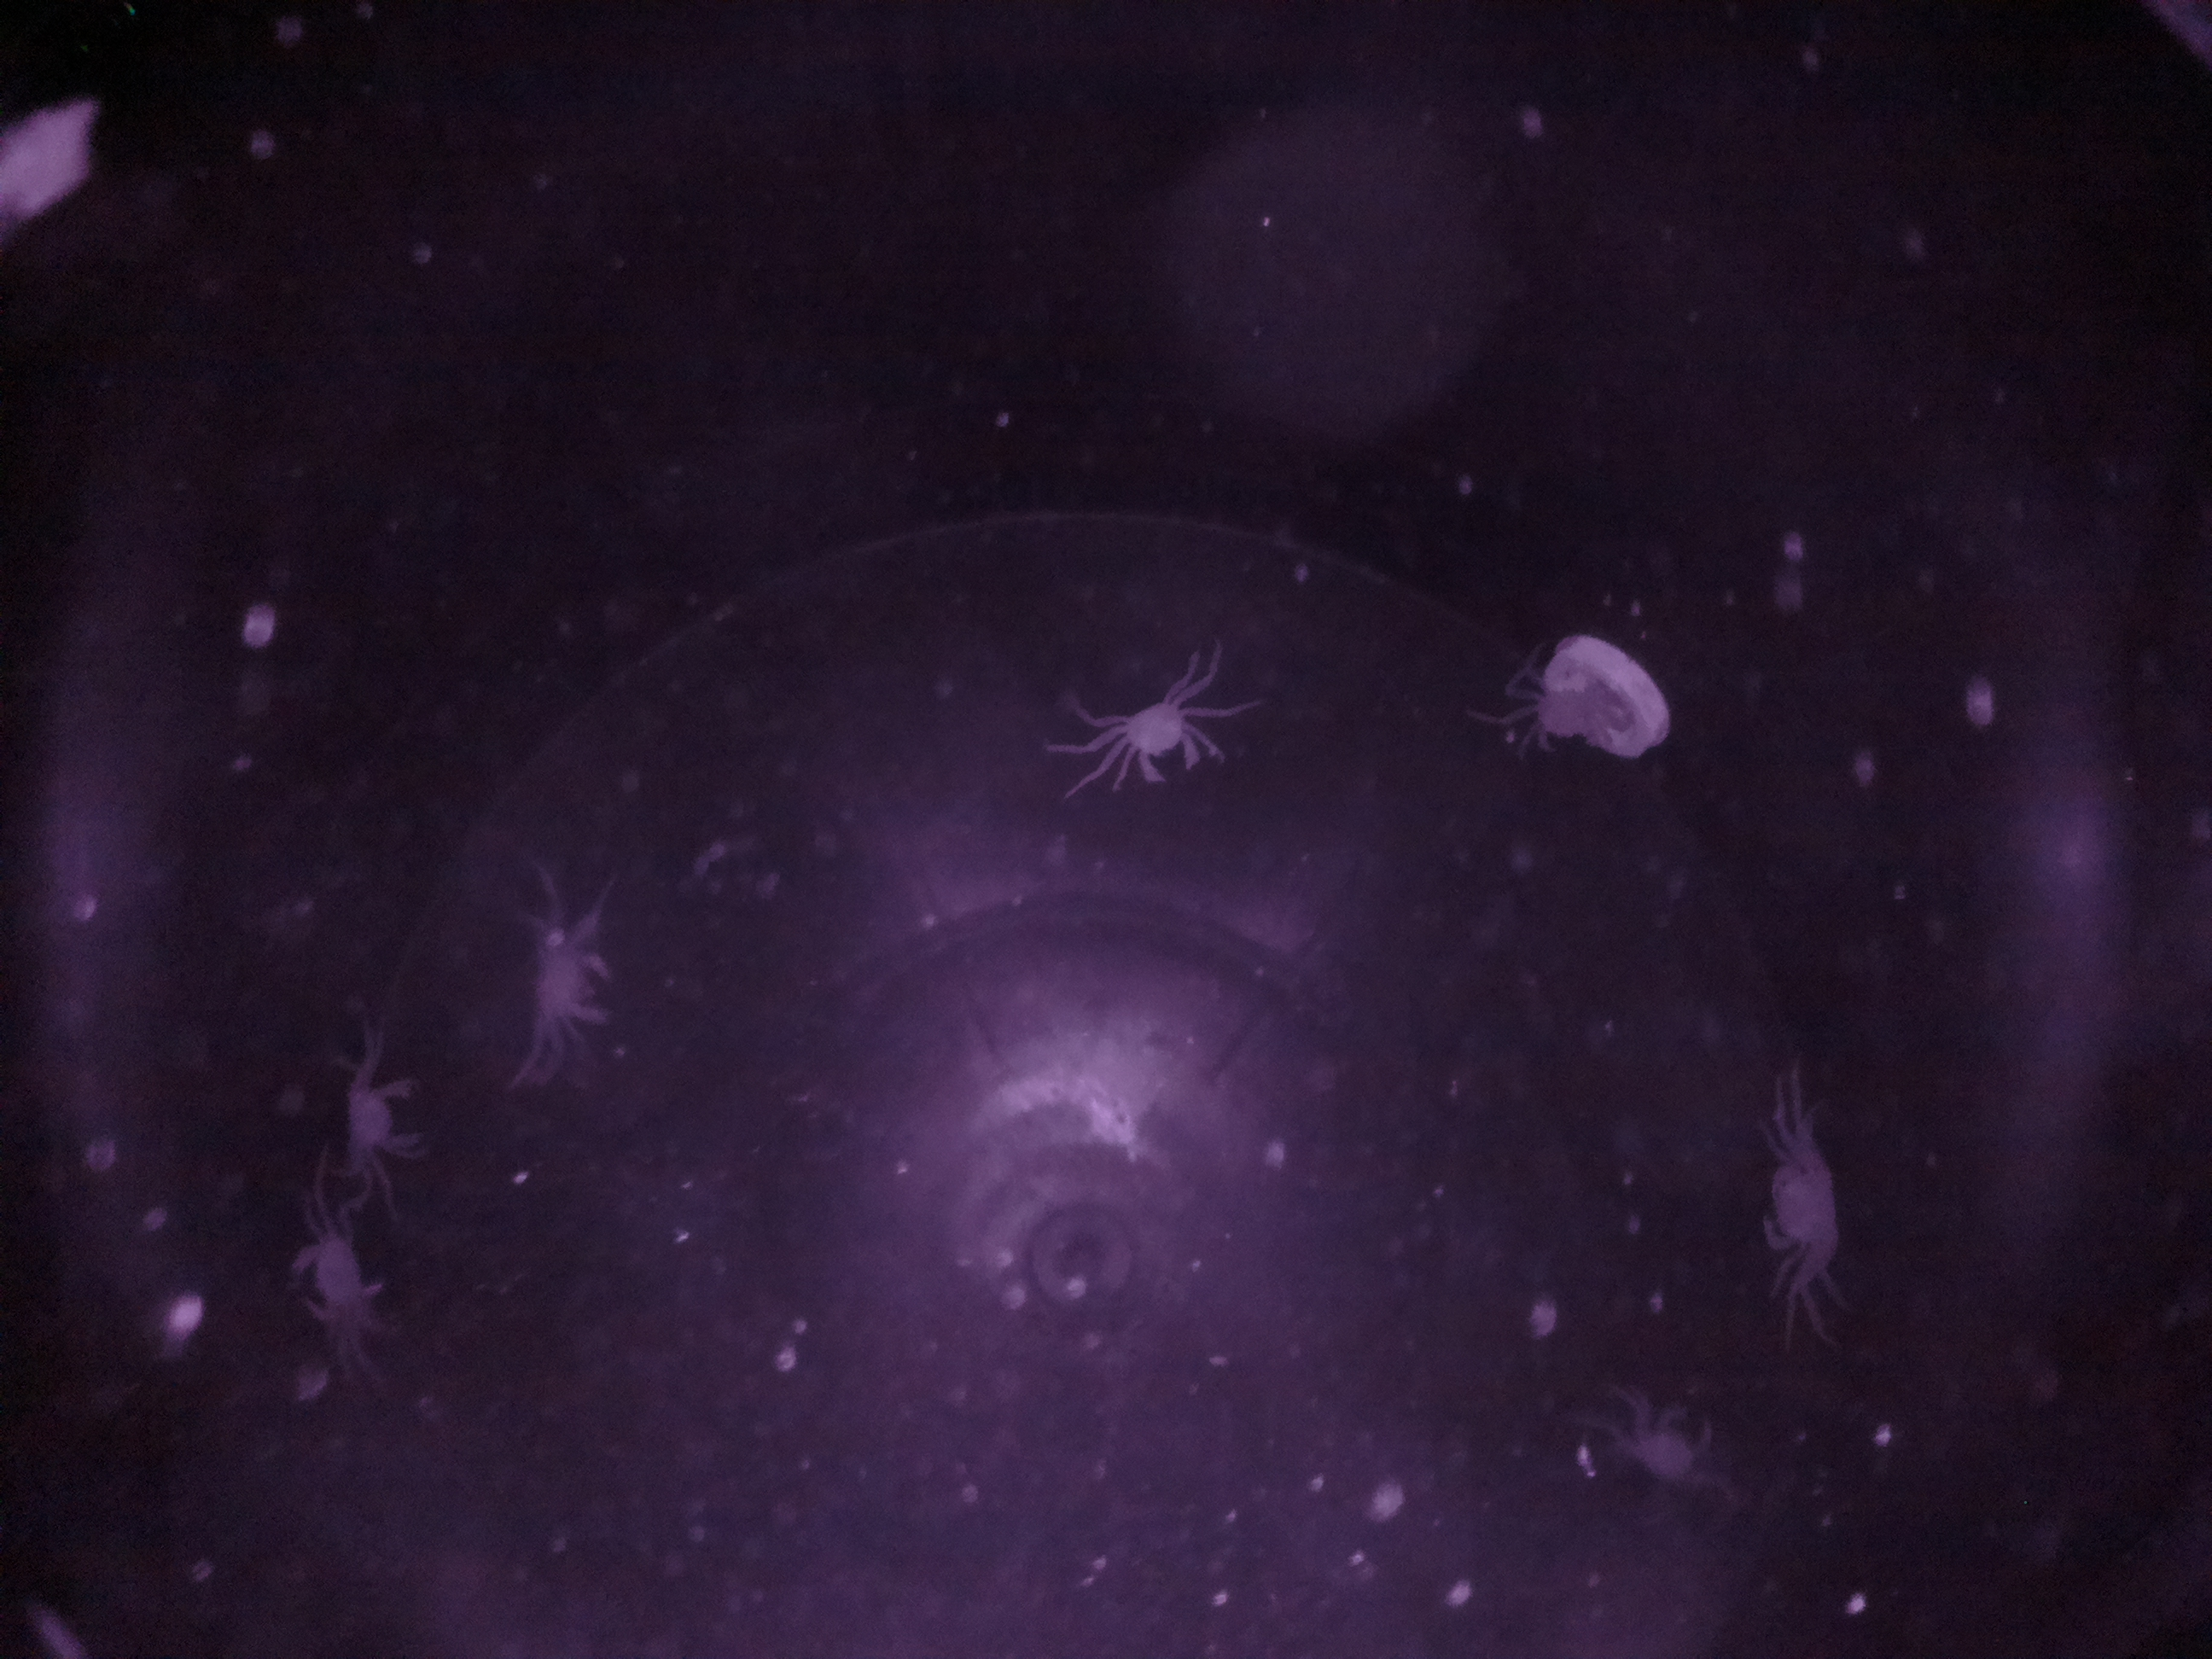Crab: (1740, 1143, 1872, 1279), (1103, 673, 1212, 803)
